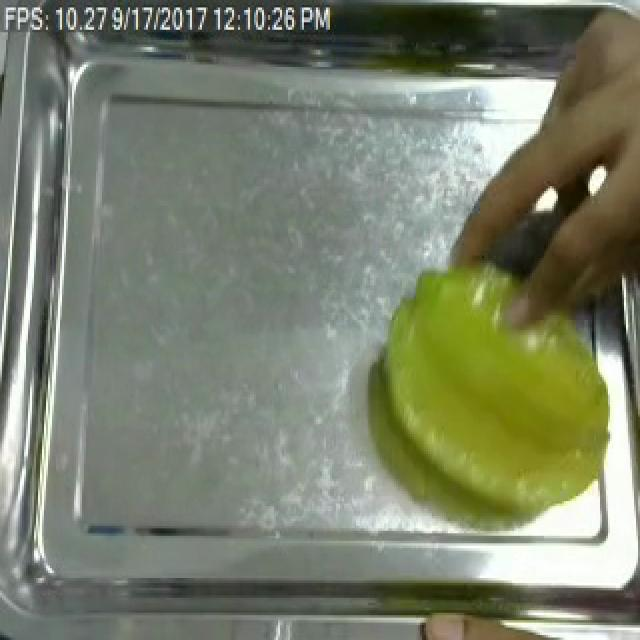fruit: (364, 243, 624, 546), (466, 2, 640, 266)
